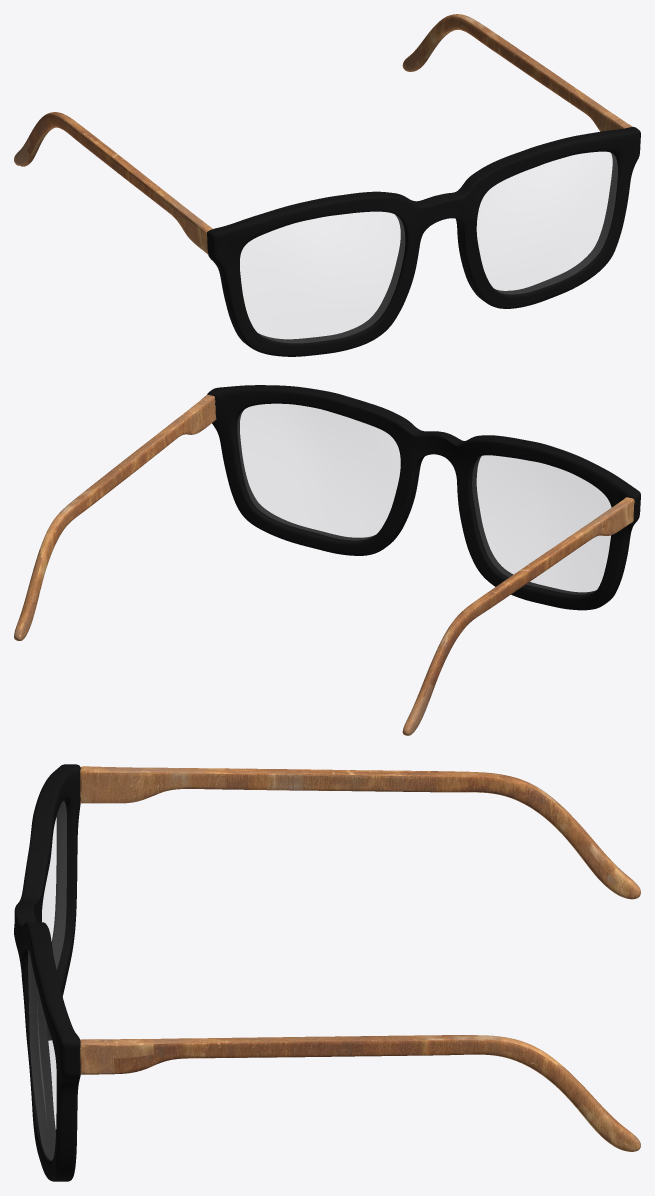
The model's file is glasses.glb.
3 views of the same model, one above another, from view 1: azimuth 30°, elevation 25°; view 2: azimuth 150°, elevation 25°; view 3: azimuth 270°, elevation 25° (orthographic). The views are drawn at different scales.
Visible parts, largest first — view 1: Glasses_3, Frame_1, Handles_2; view 2: Glasses_3, Frame_1, Handles_2; view 3: Handles_2, Frame_1, Glasses_3.
Part boxes in pixels (x1,y1,x2,y2): Glasses_3: (240,152,617,342); Frame_1: (207,127,640,356); Handles_2: (14,14,632,254); Glasses_3: (237,404,610,594); Frame_1: (207,385,640,610); Handles_2: (14,394,634,735); Handles_2: (80,766,640,1151); Frame_1: (14,764,80,1181); Glasses_3: (28,801,66,1160).
Size of the model in its own units: 1.41 by 0.4825 by 1.33.
3 materials, 1 textured.
